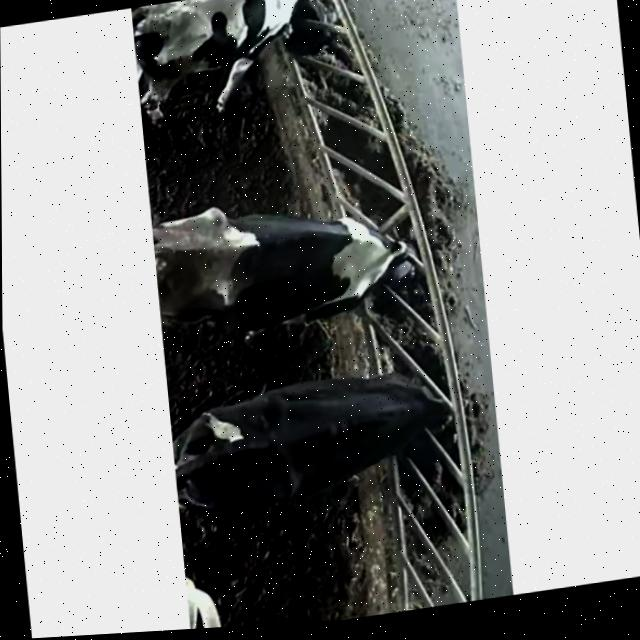eat: (277, 189, 466, 327), (333, 346, 500, 466), (201, 0, 402, 86)
